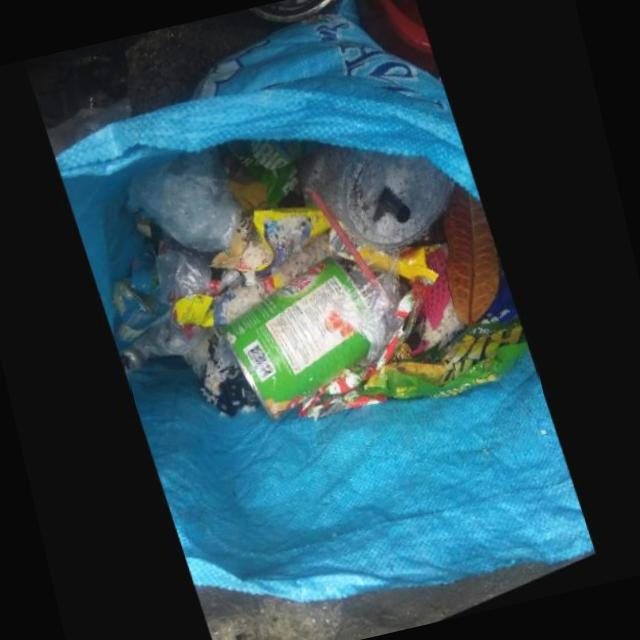bao_bi_thuc_pham: (359, 326, 532, 407)
la_cay: (443, 193, 502, 335)
nhom: (221, 265, 385, 422)
ong_hut_nhua: (311, 198, 386, 298), (380, 194, 413, 231)
tui_ni_long: (126, 150, 243, 256)
